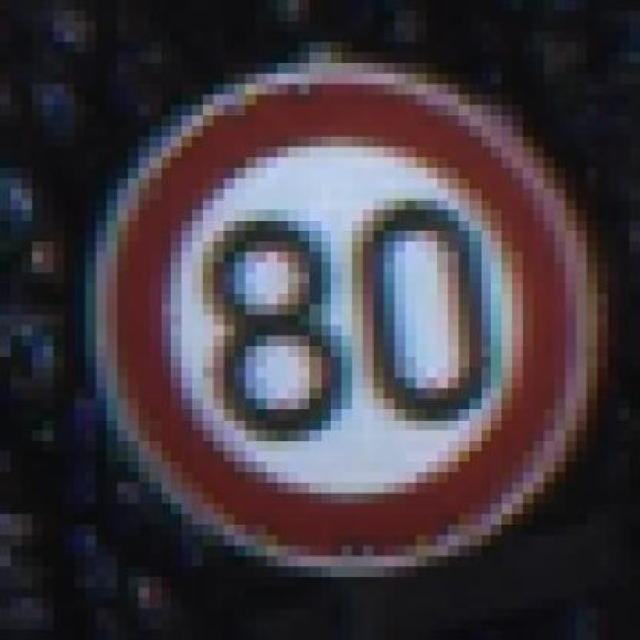forb_speed_over_80: (99, 75, 593, 573)
